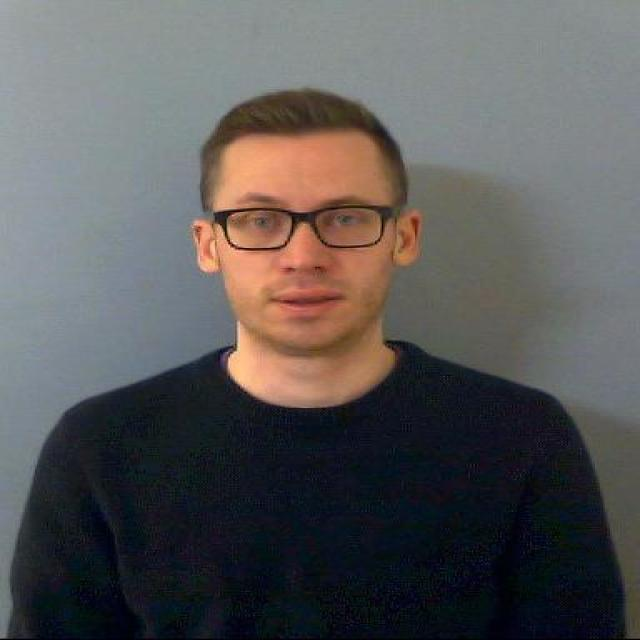mobile_phonerotation: (5, 85, 627, 638)
